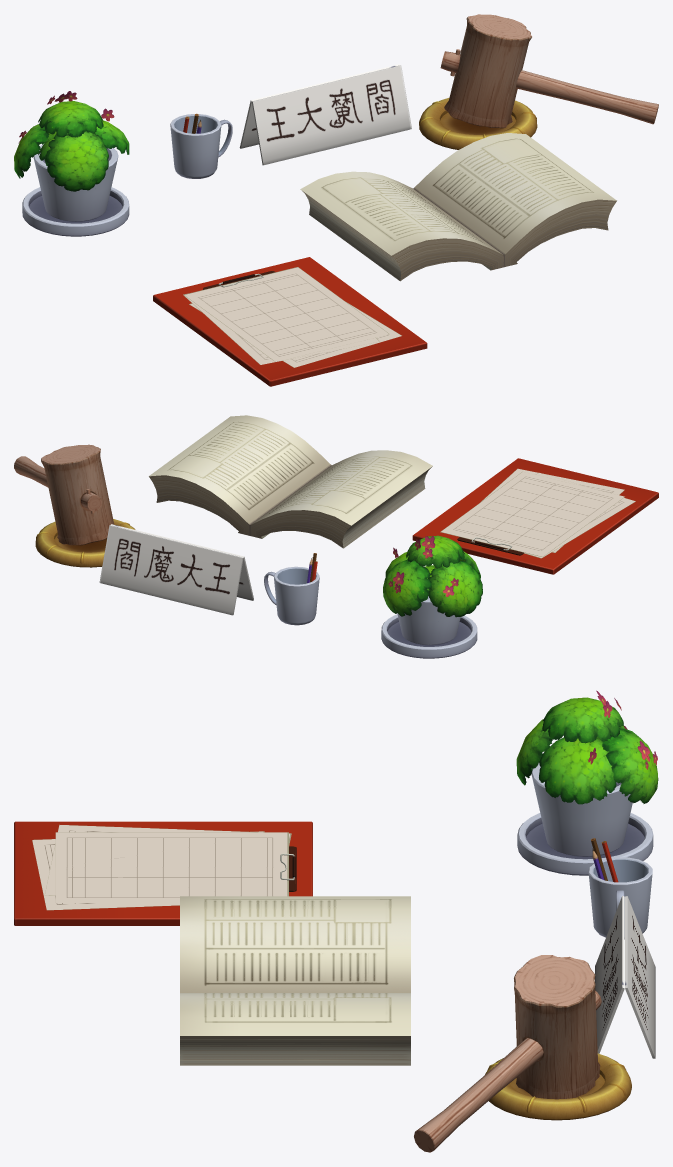
The model's file is difu_daoju.FBX.
The picture shows the model from 3 angles, top to bottom: view 1: azimuth 30°, elevation 25°; view 2: azimuth 150°, elevation 25°; view 3: azimuth 270°, elevation 25°; orthographic projection. The views are drawn at different scales.
Visible parts, largest first — view 1: difu_daoju; view 2: difu_daoju; view 3: difu_daoju.
Boxes of the visible parts, x1=… form: difu_daoju: x1=14, y1=14, x2=658, y2=386; difu_daoju: x1=14, y1=415, x2=658, y2=658; difu_daoju: x1=14, y1=690, x2=658, y2=1152.
Size of the model in its own units: 1405 by 281 by 1068.
